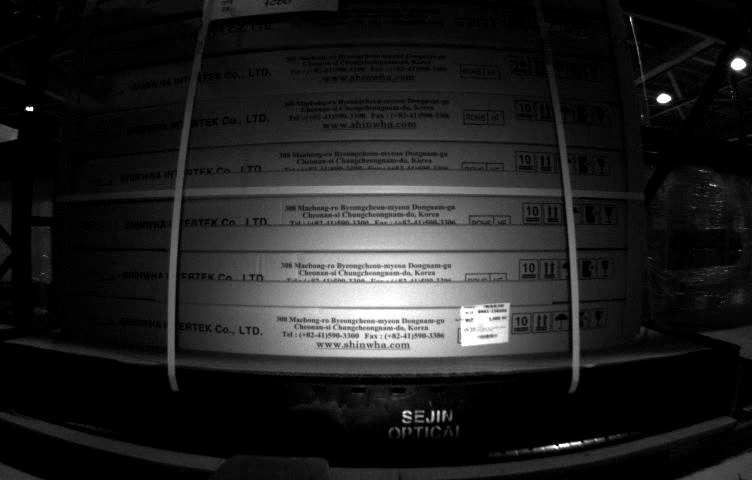True Barcode: (459, 304, 510, 344)
